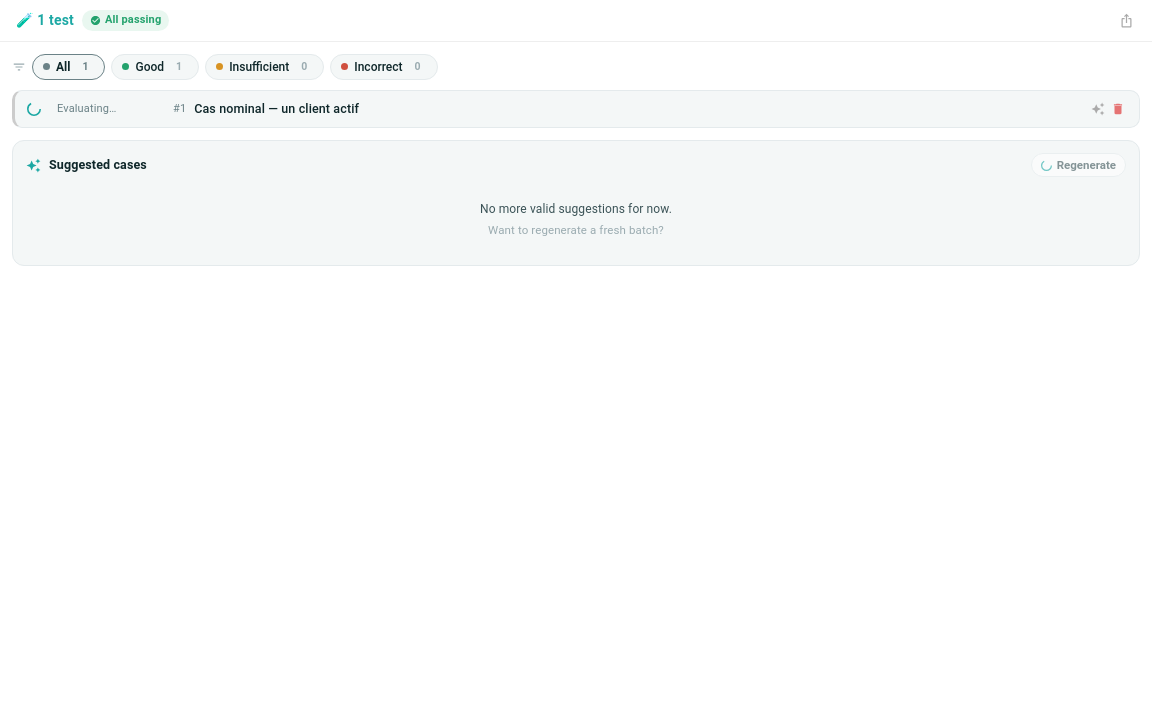
it: TestsPanel — badge de verdict pendant l'évaluation › masque le badge « Good » tant que le verdict LLM n'est pas rendu (carte dépliée)
Click the element with test id "test-card-1" at (576, 109), box top-left (12, 90), bottom-right (1140, 128)
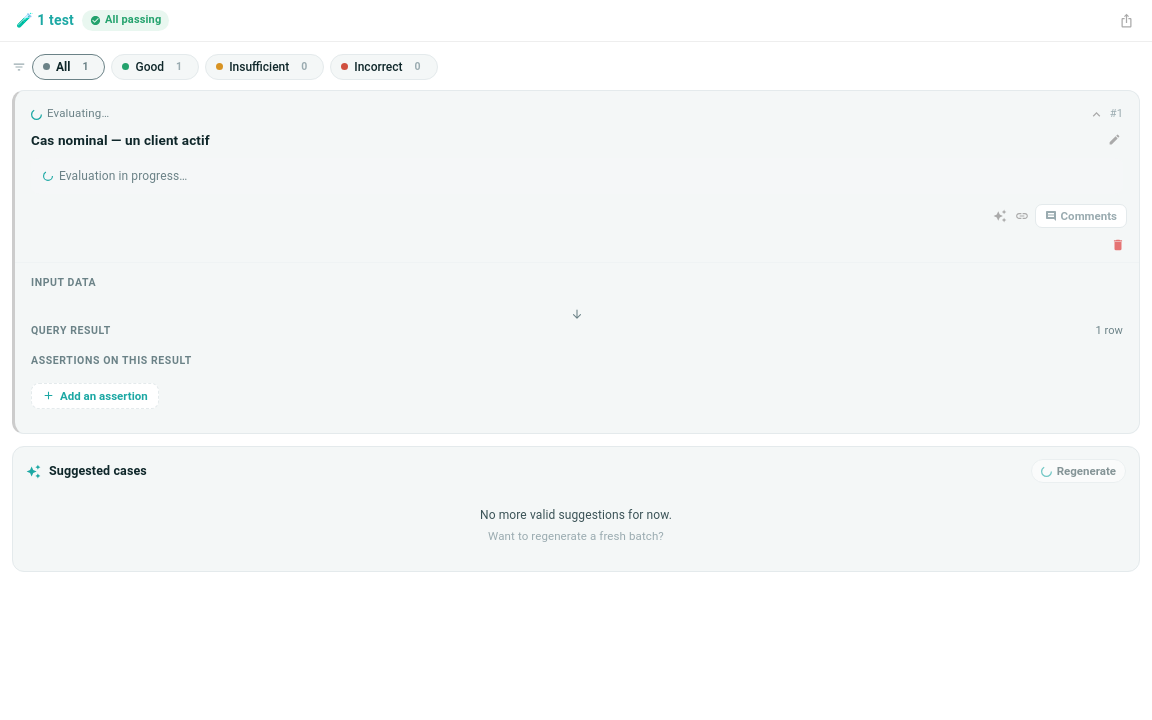
Expected: the text "Evaluation in progress…" is shown, top-left (59, 167), bottom-right (187, 185)
